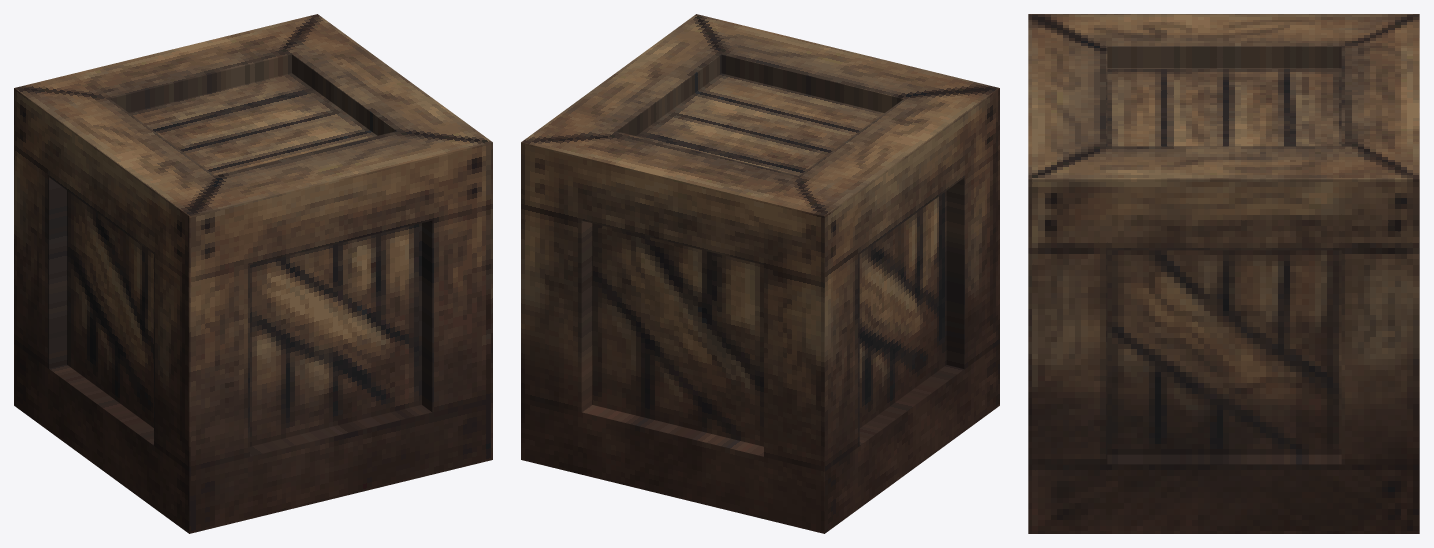
File: crate.glb
3 views of the same model, side by side, from view 1: azimuth 30°, elevation 25°; view 2: azimuth 150°, elevation 25°; view 3: azimuth 270°, elevation 25° (orthographic). The views are drawn at different scales.
Visible parts, largest first — view 1: crate; view 2: crate; view 3: crate.
Part boxes in pixels (x1=…): crate: x1=14, y1=14, x2=492, y2=533; crate: x1=521, y1=14, x2=999, y2=533; crate: x1=1028, y1=14, x2=1419, y2=533.
Bounding box in the file's own units: 1.2 × 1.2 × 1.2.
1 material, 1 textured.
